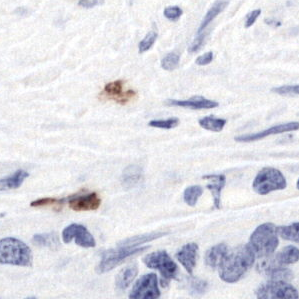Lymphocyte: (67, 189, 103, 215)
